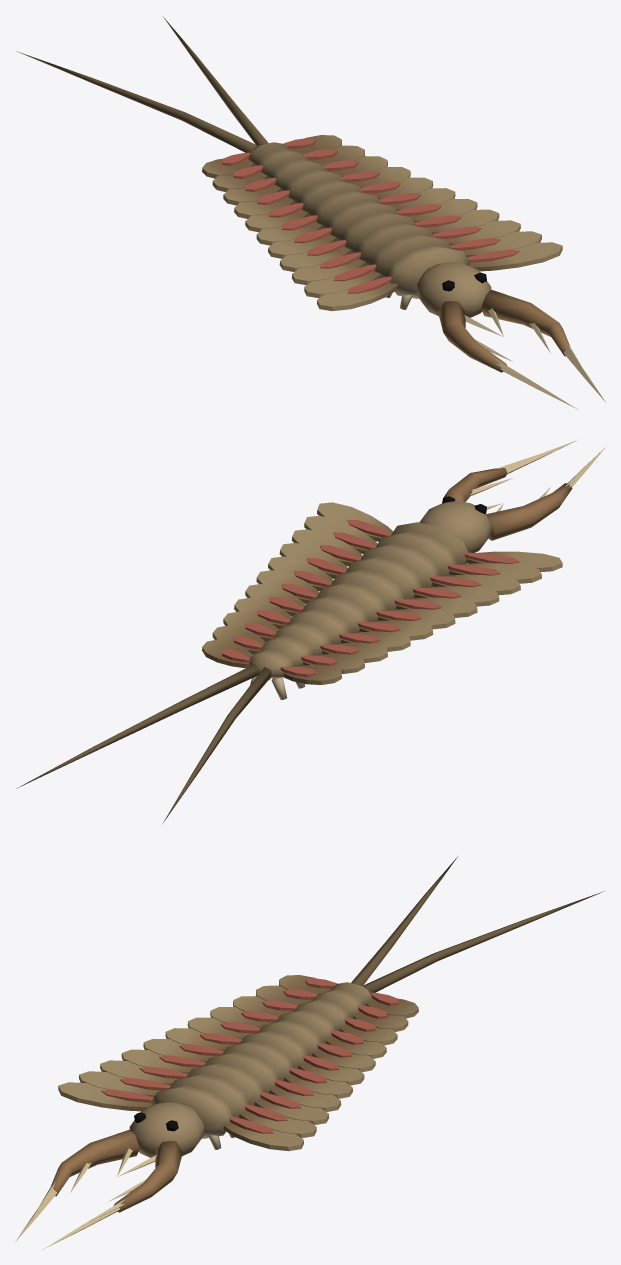
File: Kerygmachela.fbx
The picture shows the model from 3 angles, top to bottom: view 1: azimuth 30°, elevation 25°; view 2: azimuth 150°, elevation 25°; view 3: azimuth 330°, elevation 25°; orthographic projection.
Visible parts, largest first — view 1: Kerygmachela; view 2: Kerygmachela; view 3: Kerygmachela.
Part boxes in pixels (<box>): Kerygmachela: <box>16,16,605,409</box>; Kerygmachela: <box>16,439,605,822</box>; Kerygmachela: <box>15,856,604,1249</box>.
Size of the model in its own units: 0.5349 by 0.1123 by 1.92.
